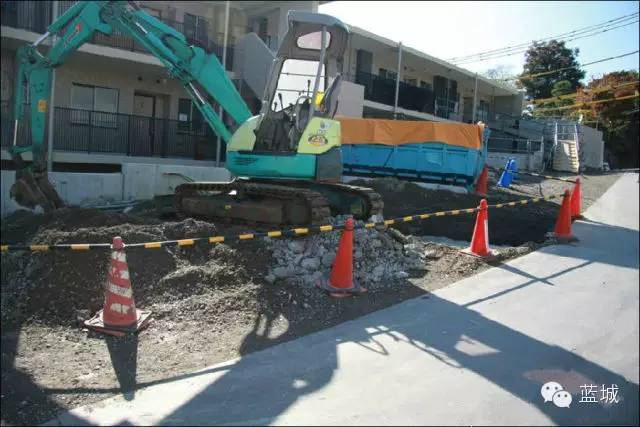excavator: (1, 1, 391, 226)
